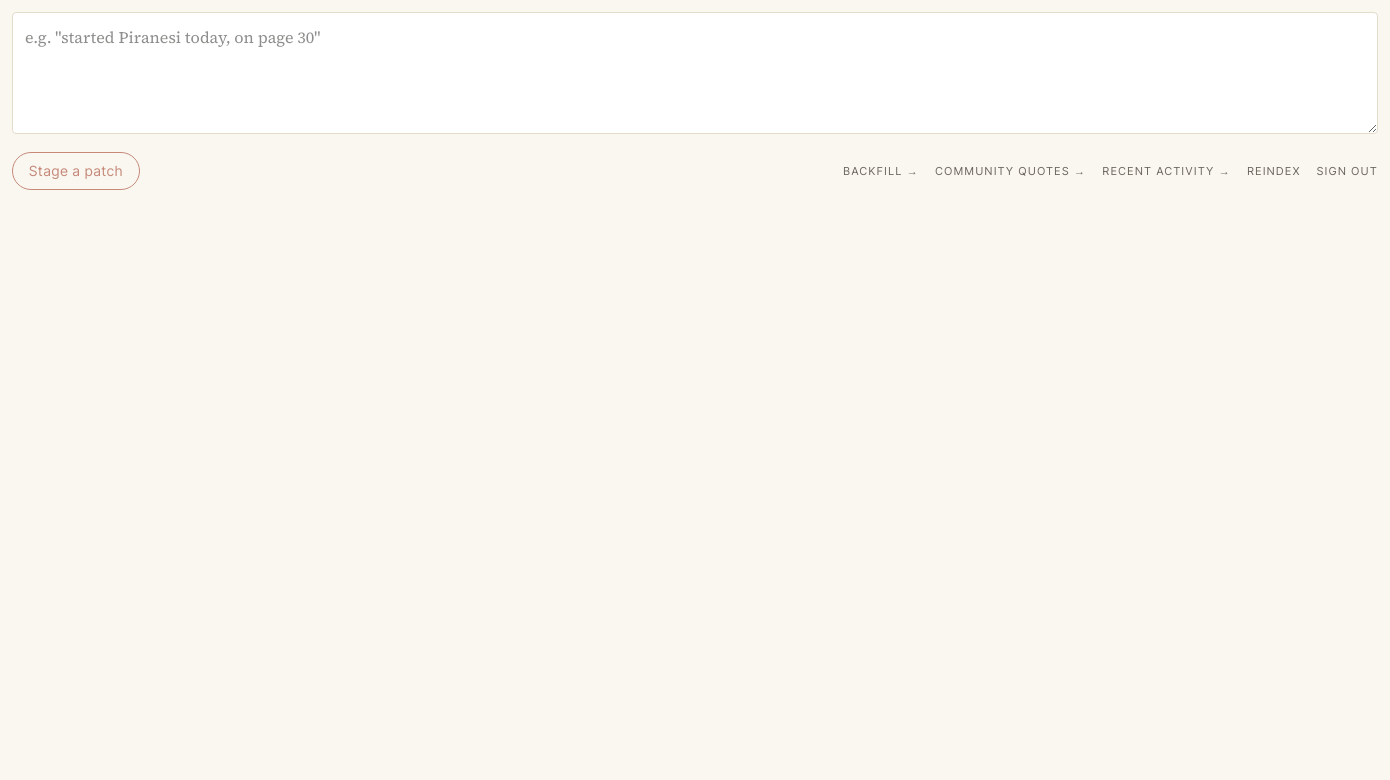
AdminConsole — 5-star unreviewed prompt › fetches a candidate on patch-staged entry and renders the prompt
Type "rate Subject Book 4" into the text box with placeholder "e.g. \"started Piranesi today, on page 30\"" at (695, 73), box [12,12,1378,134]
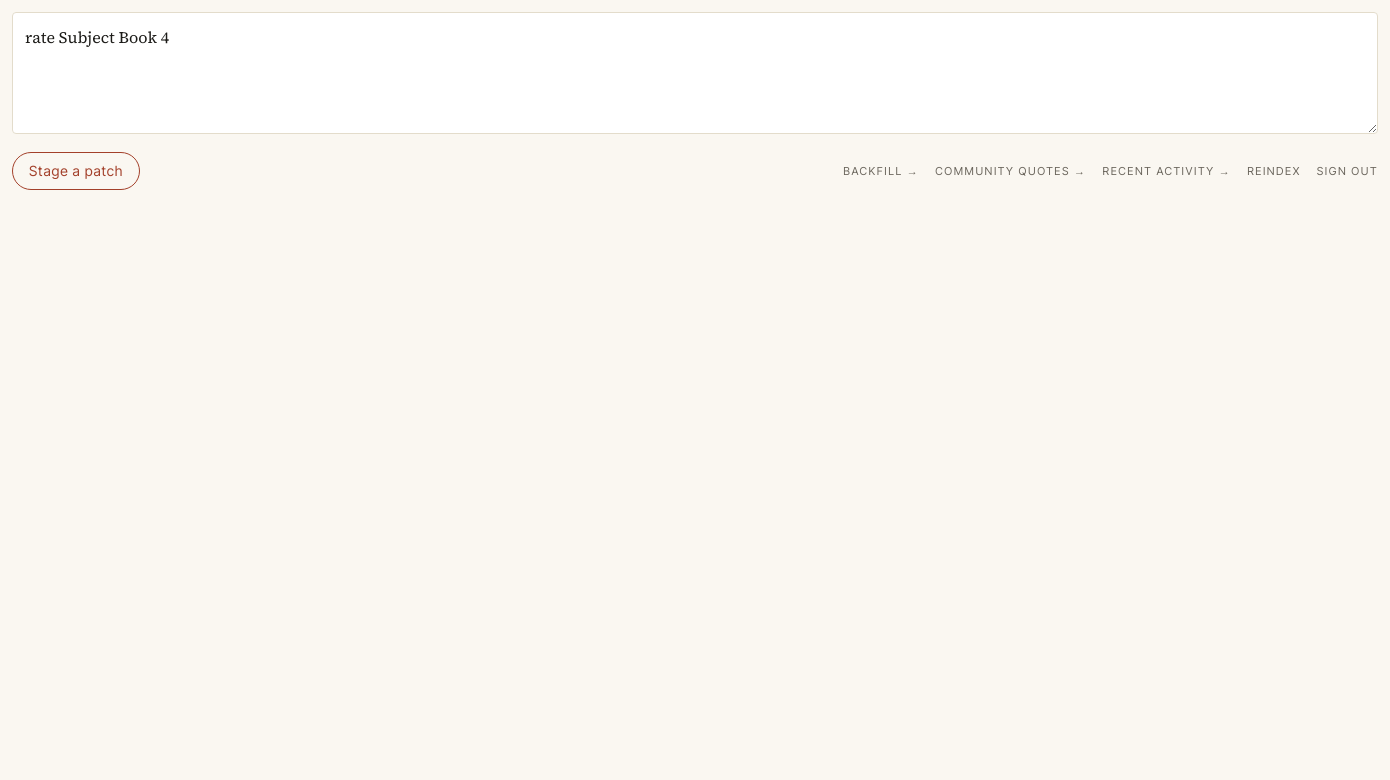
Click the button "Stage a patch" at (76, 171), box [12,152,140,190]
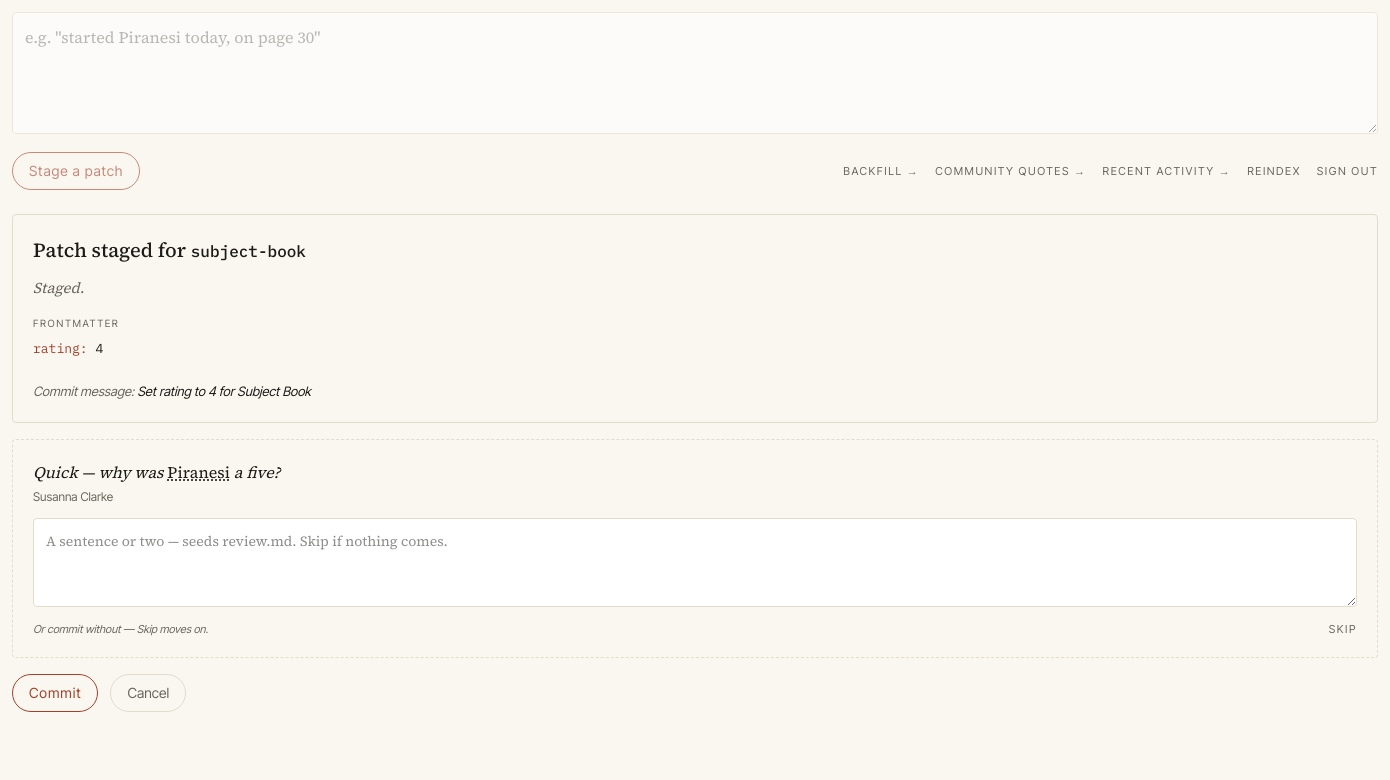
Now the text "Quick — why was Piranesi a five?" is shown, box [33,460,280,482]
Now the link "Piranesi" is shown, box [167,460,230,482]
Now the button "Skip" is shown, box [1329,620,1357,637]
